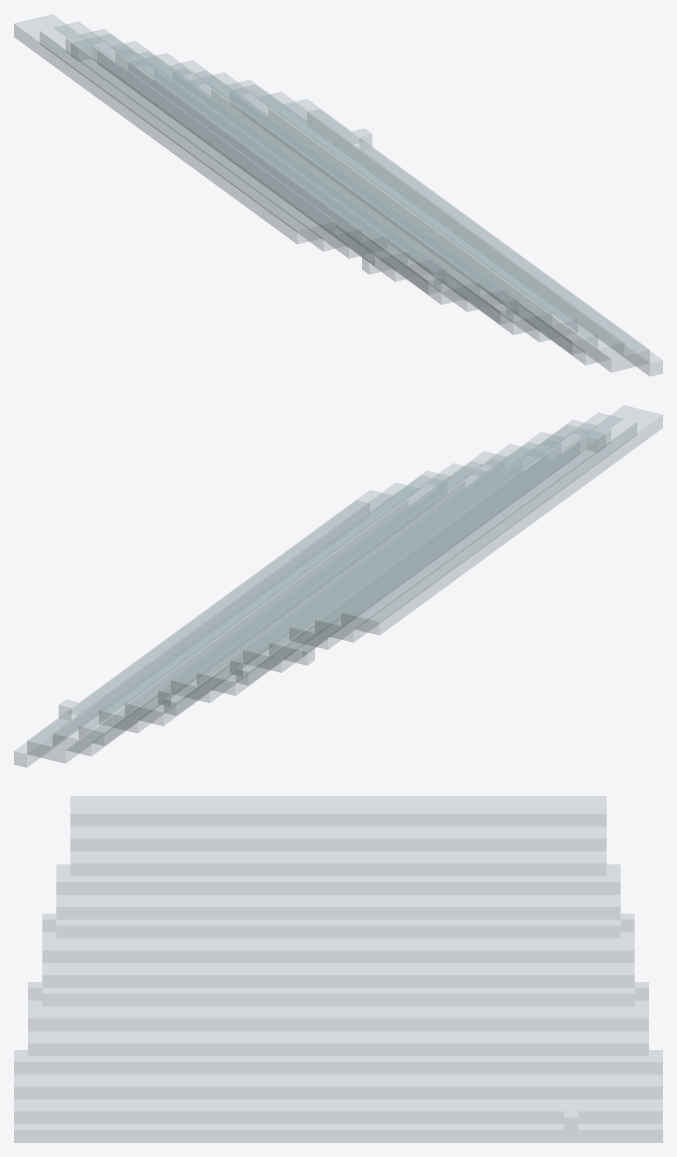
File: limousine_windscreen.glb
The picture shows the model from 3 angles, top to bottom: view 1: azimuth 30°, elevation 25°; view 2: azimuth 150°, elevation 25°; view 3: azimuth 270°, elevation 25°; orthographic projection. The views are drawn at different scales.
Visible parts, largest first — view 1: body:compound; view 2: body:compound; view 3: body:compound.
Boxes of the visible parts, bbox=[...] form: body:compound: bbox=[14, 14, 662, 376]; body:compound: bbox=[14, 405, 662, 767]; body:compound: bbox=[14, 796, 662, 1142].
Bounding box in the file's own units: 0.8125 × 0.4688 × 1.44.
